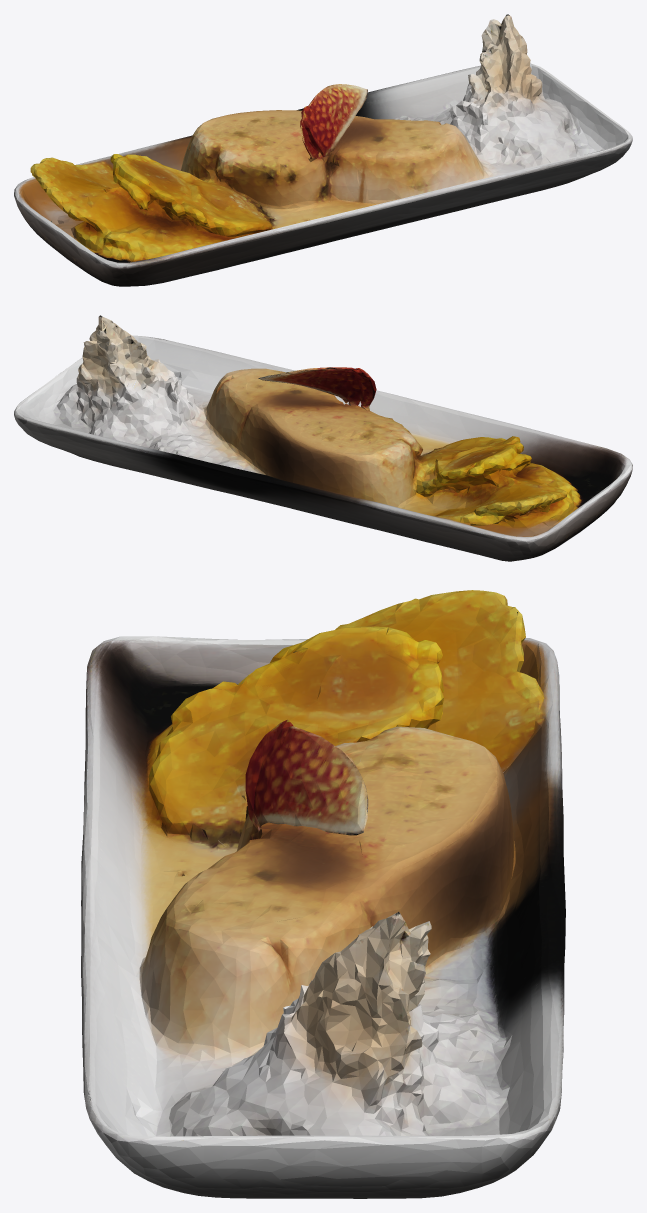
The model's file is ceviche.glb.
The picture shows the model from 3 angles, top to bottom: view 1: azimuth 30°, elevation 25°; view 2: azimuth 150°, elevation 25°; view 3: azimuth 270°, elevation 25°; orthographic projection. The views are drawn at different scales.
Parts seen in each view (by area): view 1: world; view 2: world; view 3: world.
Boxes of the visible parts, <box> form: world: <box>14,14,632,286</box>; world: <box>14,315,632,561</box>; world: <box>81,590,565,1198</box>.
Bounding box in the file's own units: 1 × 0.2424 × 0.399.
1 material, 1 textured.
